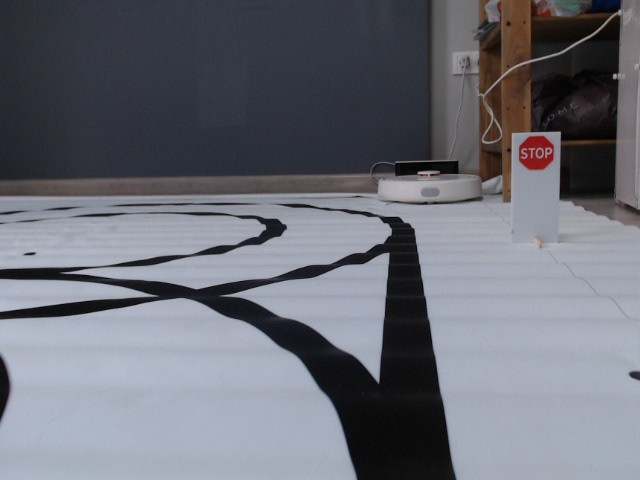Stop: (517, 135, 554, 171)
